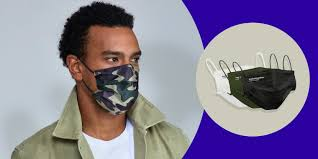FaceMask: (92, 64, 139, 115)
